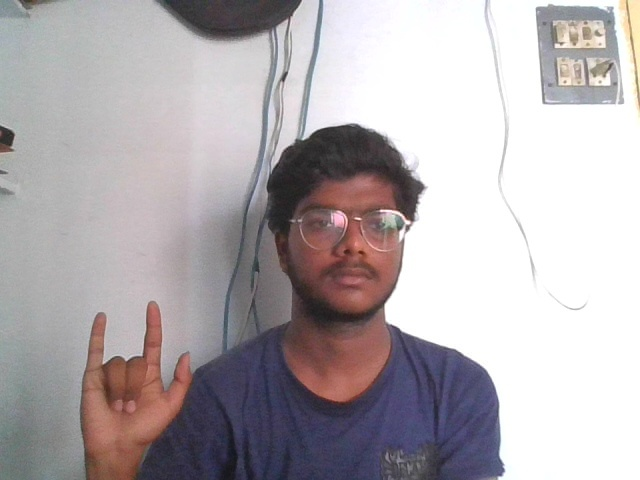IloveYou: (66, 293, 195, 457)
